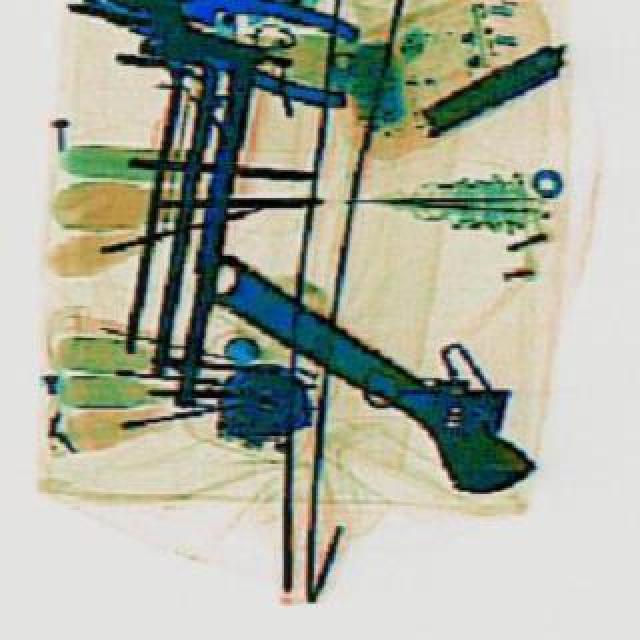scissors: (166, 212, 564, 516)
wrench: (82, 0, 358, 106)
